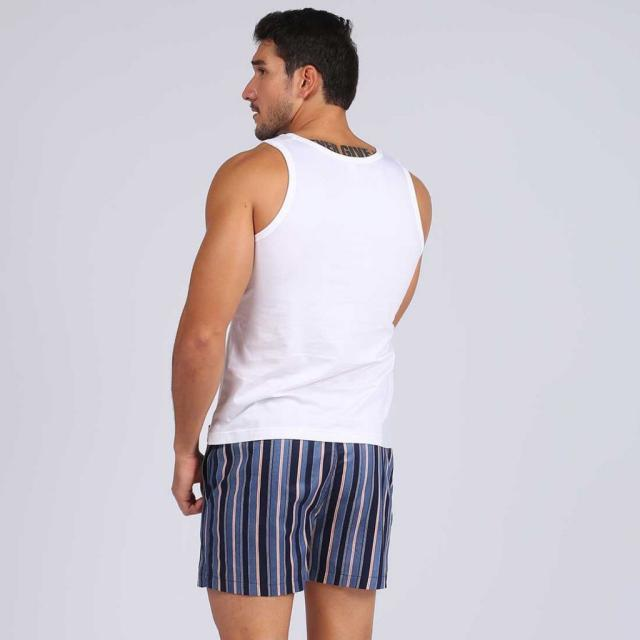Shirt: (198, 130, 423, 448)
